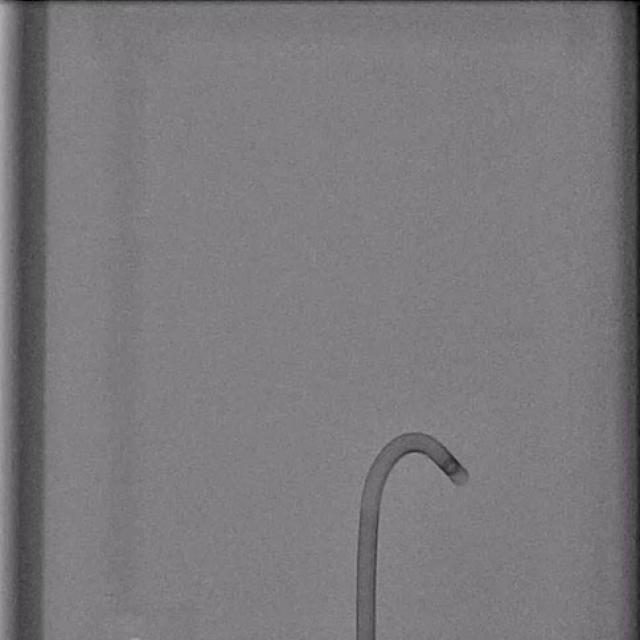bend: (361, 500, 380, 515)
entry: (354, 634, 375, 640)
marker: (442, 456, 460, 474)
tip: (454, 471, 469, 487)
